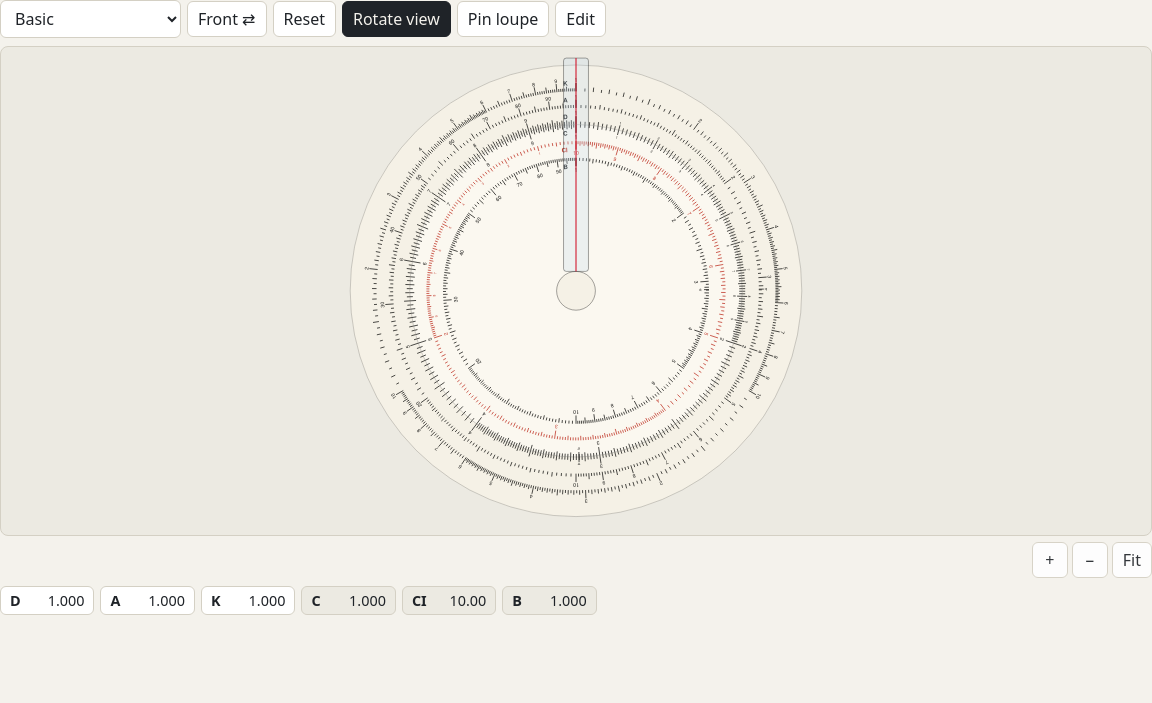
Test: the editor names the rings and refuses scales once the disc is full
This screenshot has width=1152, height=703.
Click the button "Edit" at (581,19), box x1=555 y1=1 x2=606 y2=37
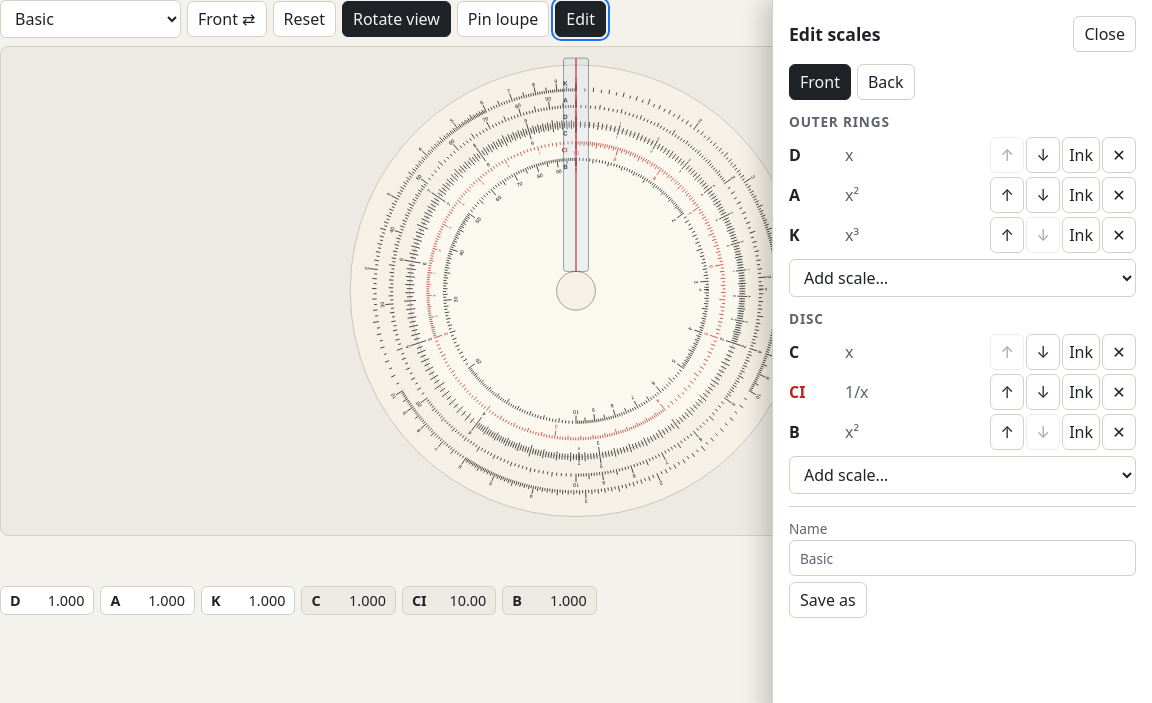
Result: the element named "Front outer rings" is shown at x1=789 y1=112 x2=1136 y2=297
Select "L: lg x (Common logarithms (mantissa), read against D)" in the dropdown named "Add scale to disc" at (962,475), box x1=789 y1=456 x2=1136 y2=494
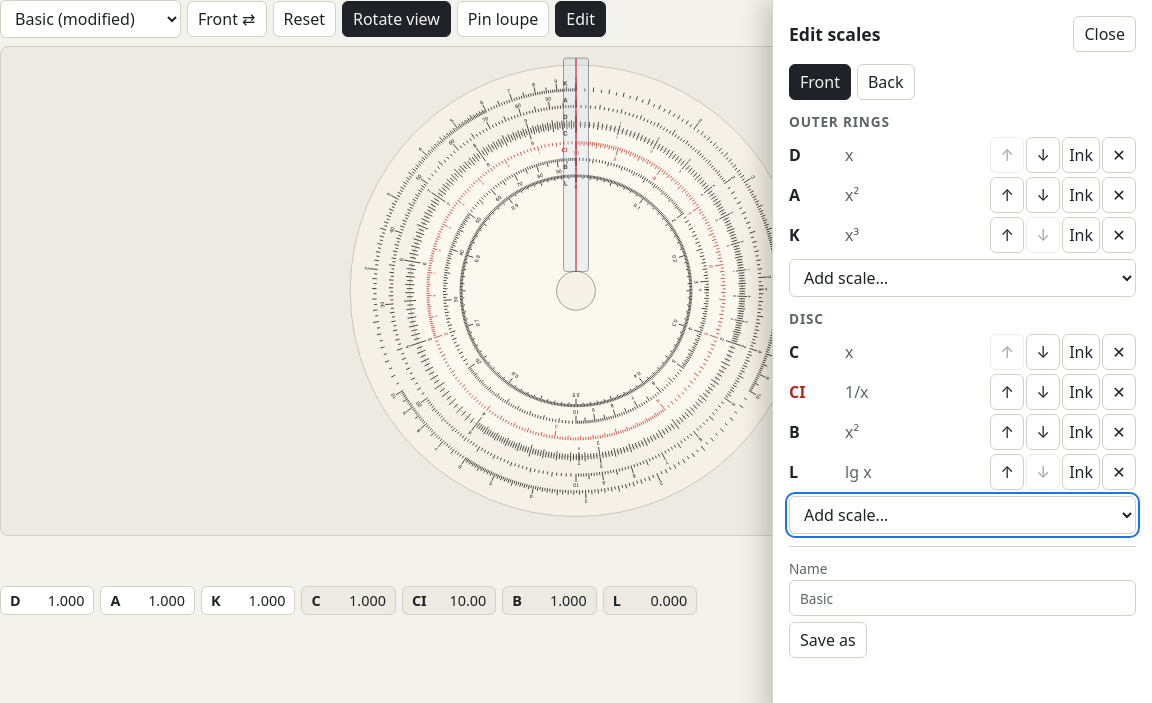
Select "L: lg x (Common logarithms (mantissa), read against D)" in the dropdown named "Add scale to disc" at (962,515), box x1=789 y1=496 x2=1136 y2=534
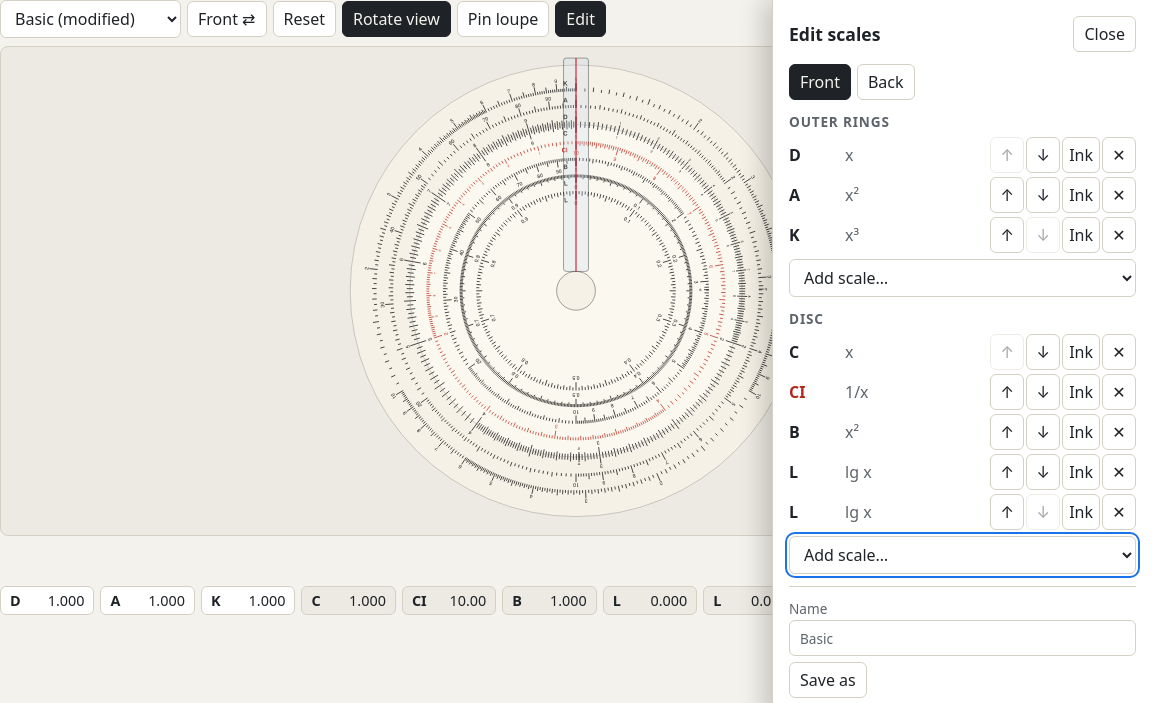
Select "L: lg x (Common logarithms (mantissa), read against D)" in the dropdown named "Add scale to disc" at (962,555), box x1=789 y1=536 x2=1136 y2=574
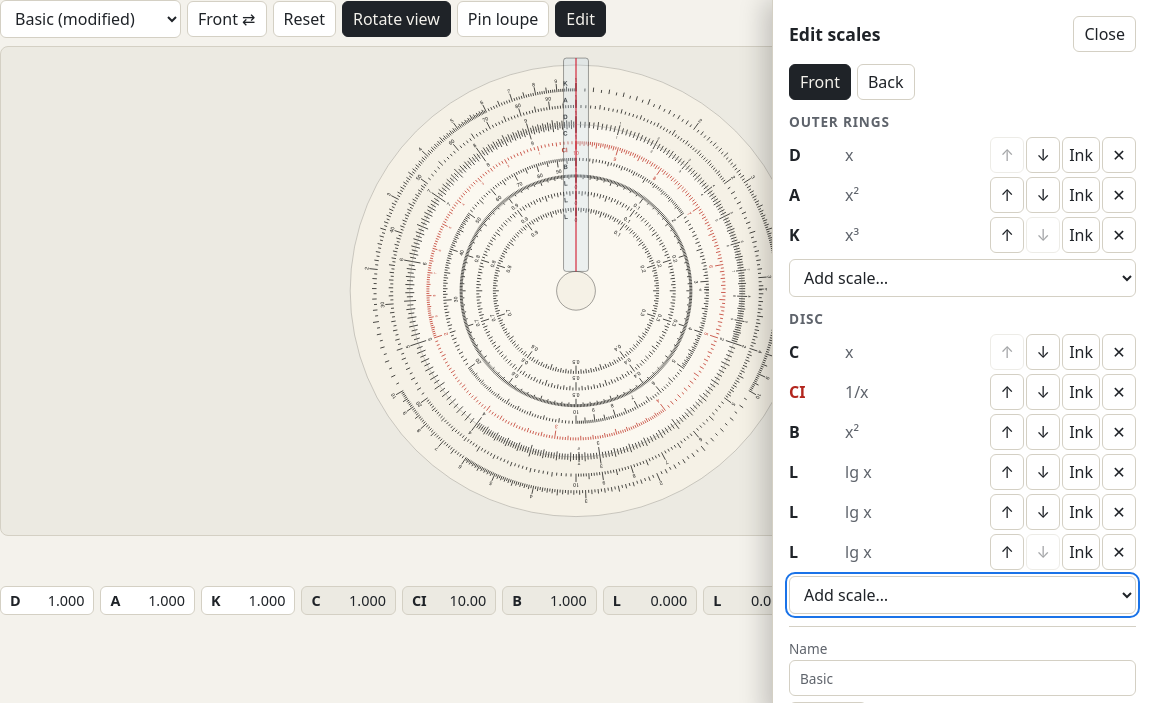
Select "L: lg x (Common logarithms (mantissa), read against D)" in the dropdown named "Add scale to disc" at (962,595), box x1=789 y1=576 x2=1136 y2=614
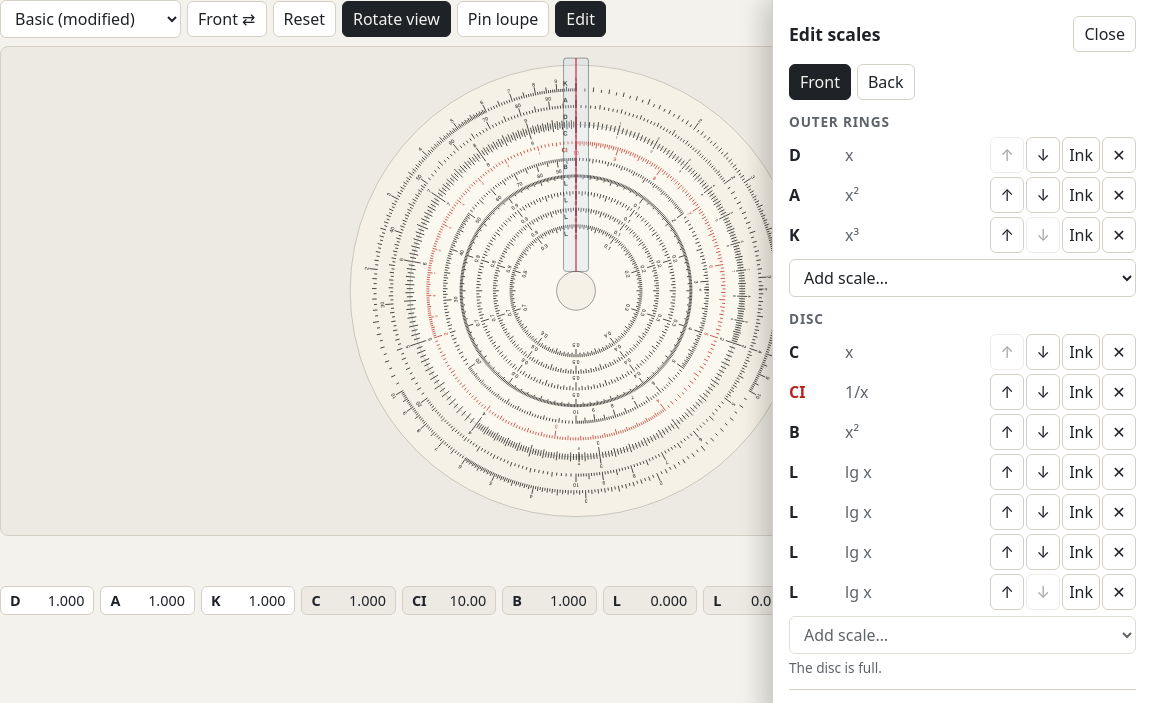
Result: the dropdown named "Add scale to disc" is disabled at x1=789 y1=616 x2=1136 y2=654
Result: the text "The disc is full." is shown at x1=789 y1=658 x2=882 y2=677
